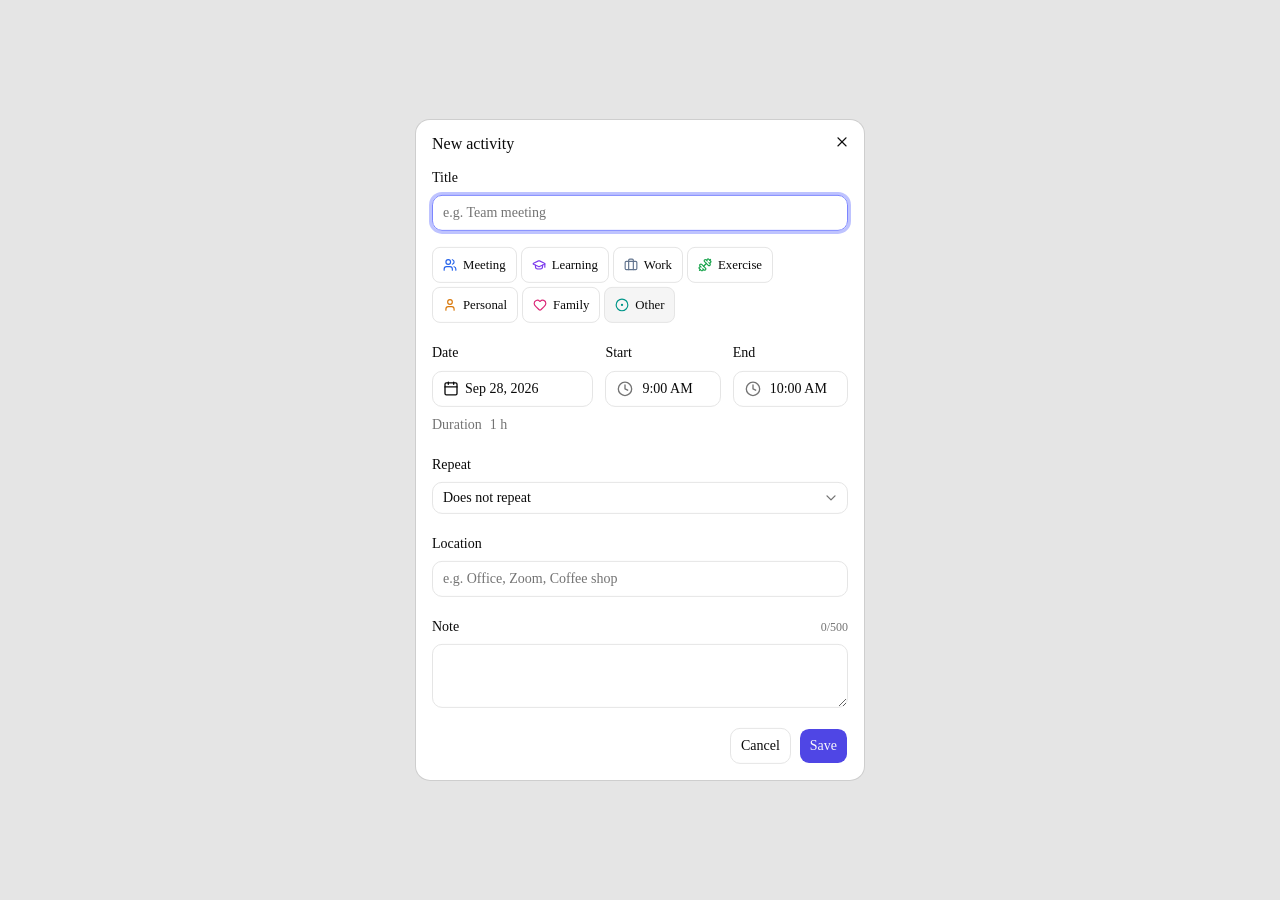
Test: ActivityFormDialog › shows translated validation messages
Click the button "Save" at (823, 746), box [799,728,848,764]
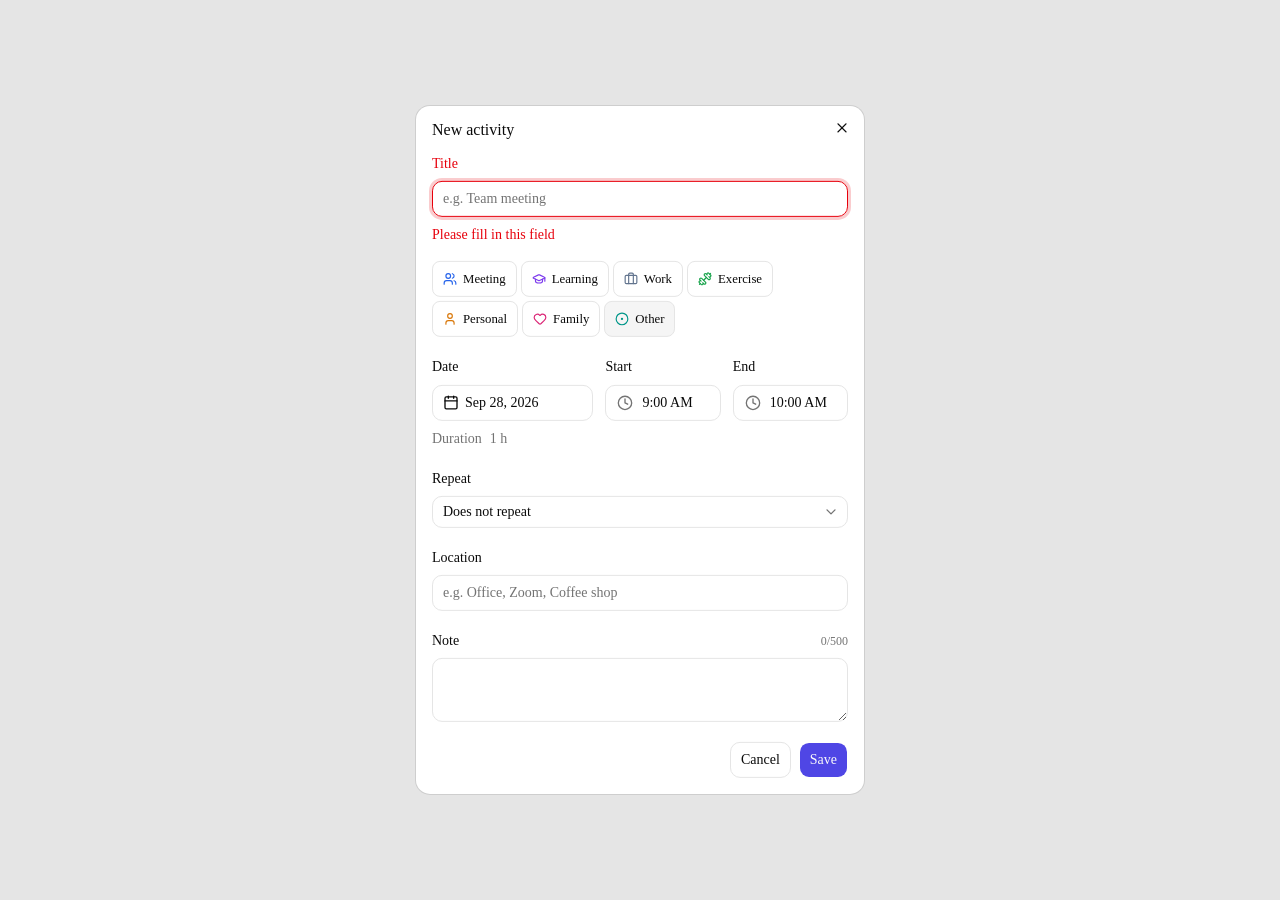
Expected: the text "Please fill in this field" is shown, [432,227,555,242]
